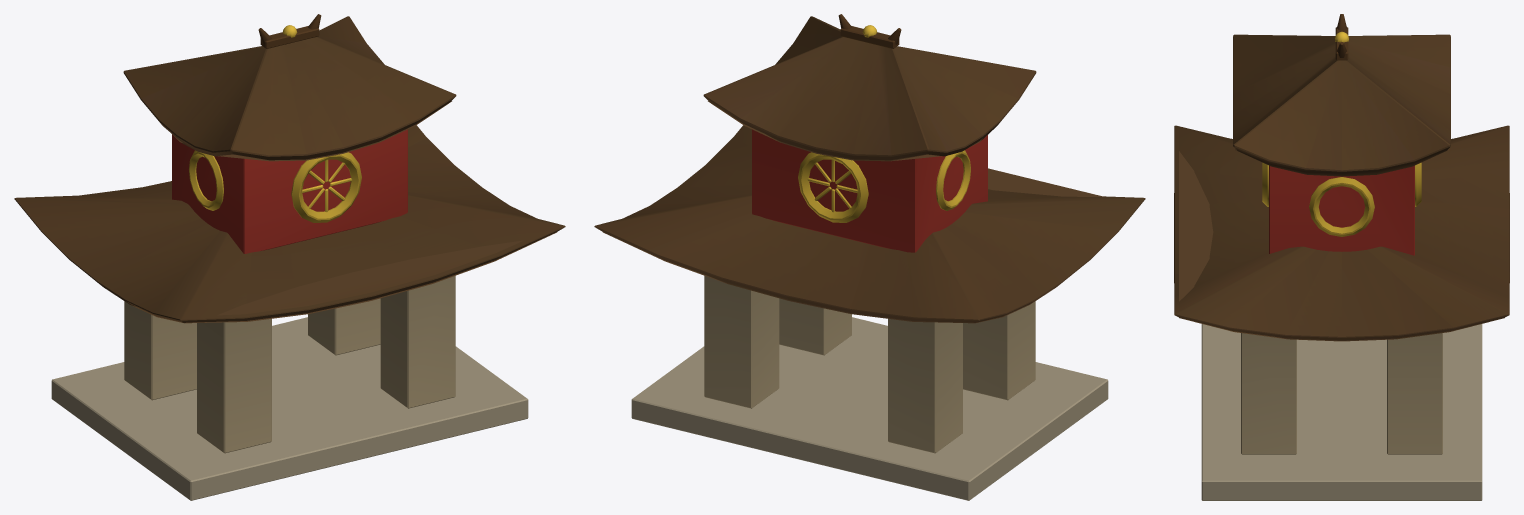
The model's file is lm-vanmieu.glb.
3 views of the same model, side by side, from view 1: azimuth 30°, elevation 25°; view 2: azimuth 150°, elevation 25°; view 3: azimuth 270°, elevation 25° (orthographic).
Bounding box in the file's own units: 7.97 × 7.67 × 5.98.
